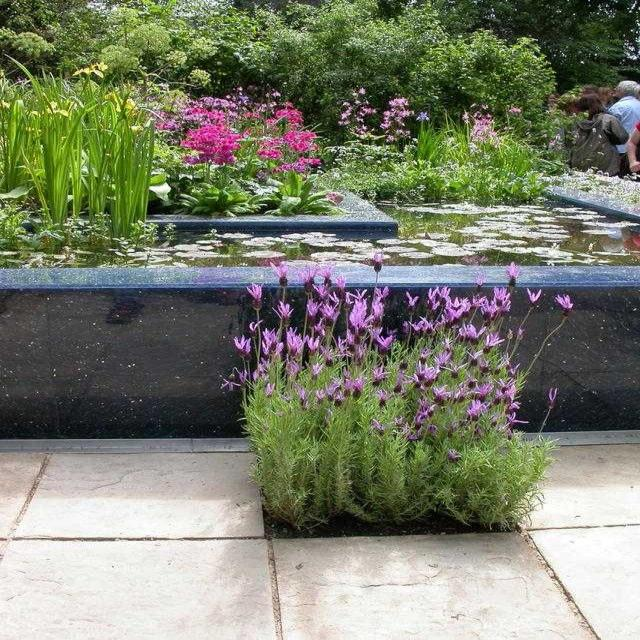Ponds: (1, 188, 640, 292)
